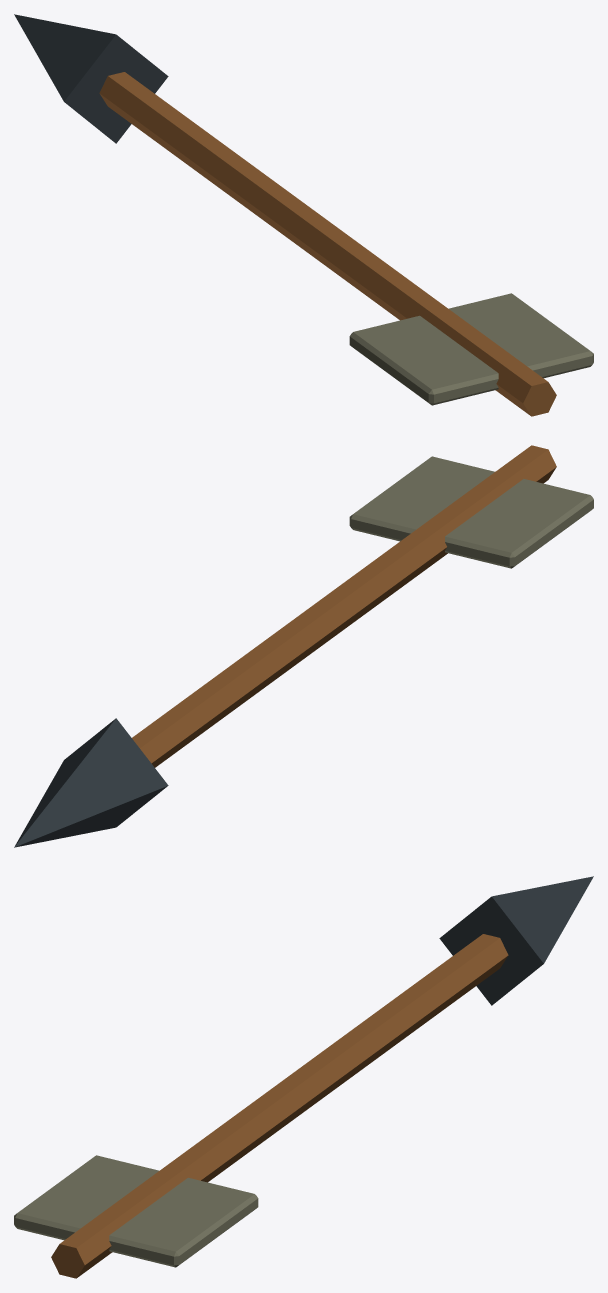
Rendered from Bolt.glb.
The picture shows the model from 3 angles, top to bottom: view 1: azimuth 30°, elevation 25°; view 2: azimuth 150°, elevation 25°; view 3: azimuth 330°, elevation 25°; orthographic projection.
Parts seen in each view (by area): view 1: Sculpture; view 2: Sculpture; view 3: Sculpture.
Boxes of the visible parts, x1=… form: Sculpture: x1=14, y1=14, x2=593, y2=416; Sculpture: x1=14, y1=445, x2=593, y2=847; Sculpture: x1=14, y1=876, x2=593, y2=1278.
Size of the model in its own units: 0.098 by 0.062 by 0.54.
